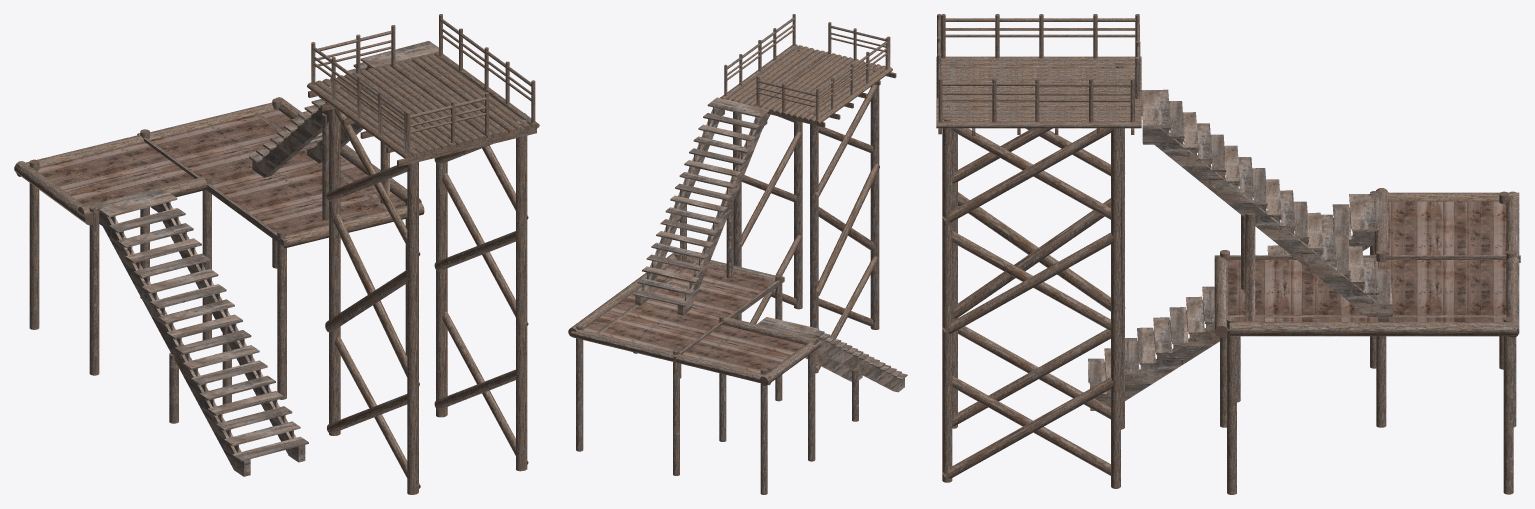
The model's file is wood+tower.fbx.
The picture shows the model from 3 angles, left to right: view 1: azimuth 30°, elevation 25°; view 2: azimuth 150°, elevation 25°; view 3: azimuth 270°, elevation 25°; orthographic projection. The views are drawn at different scales.
Parts seen in each view (by area): view 1: Group1; view 2: Group1; view 3: Group1.
Part boxes in pixels (box(x1,y1,x2,y2)): Group1: box(14, 14, 539, 494); Group1: box(568, 14, 907, 494); Group1: box(936, 14, 1520, 494).
Size of the model in its own units: 233 by 326 by 420.
